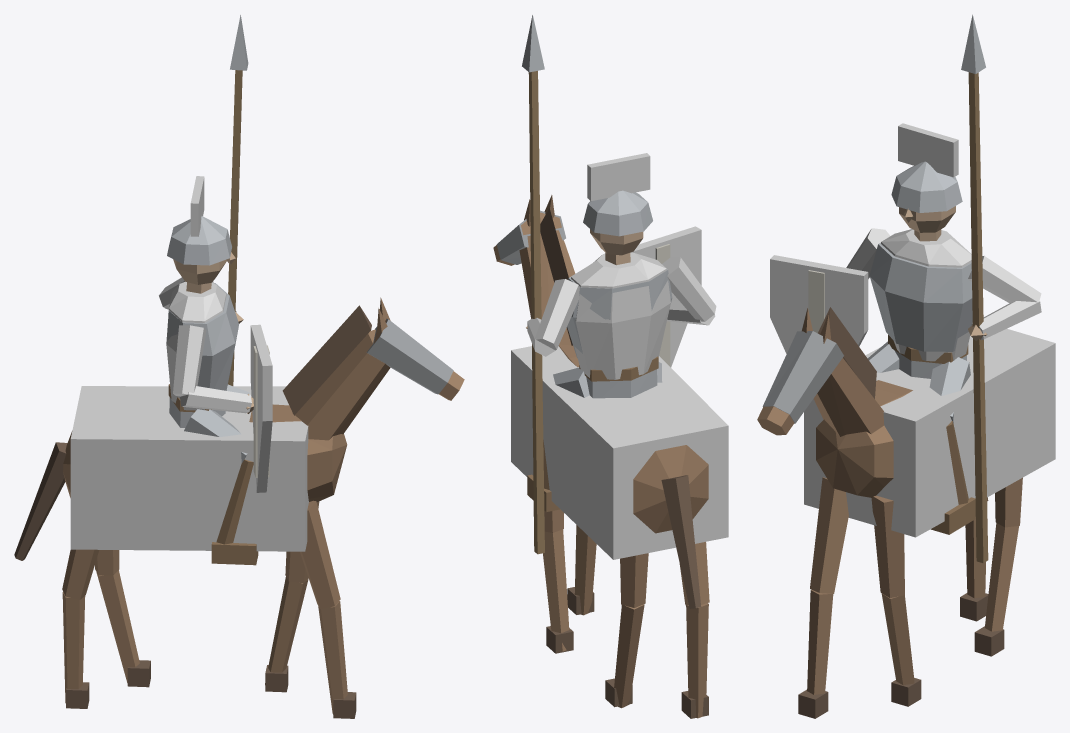
Rendered from knight.glb.
3 views of the same model, side by side, from view 1: azimuth 30°, elevation 25°; view 2: azimuth 150°, elevation 25°; view 3: azimuth 270°, elevation 25° (orthographic). The views are drawn at different scales.
Visible parts, largest first — view 1: LOD0; view 2: LOD0; view 3: LOD0.
Part boxes in pixels (box(x1,y1,x2,y2)): LOD0: box(14, 15, 464, 718); LOD0: box(493, 15, 728, 718); LOD0: box(757, 14, 1055, 718).
Size of what is drawn, in the model's own units: 0.9264 by 1.77 by 0.7003.
